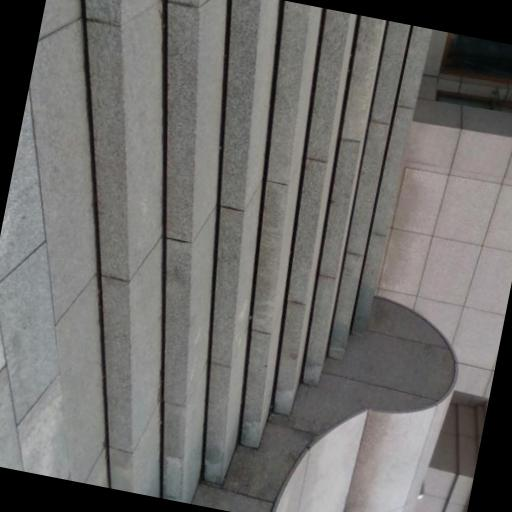stairs: (84, 0, 419, 503)
